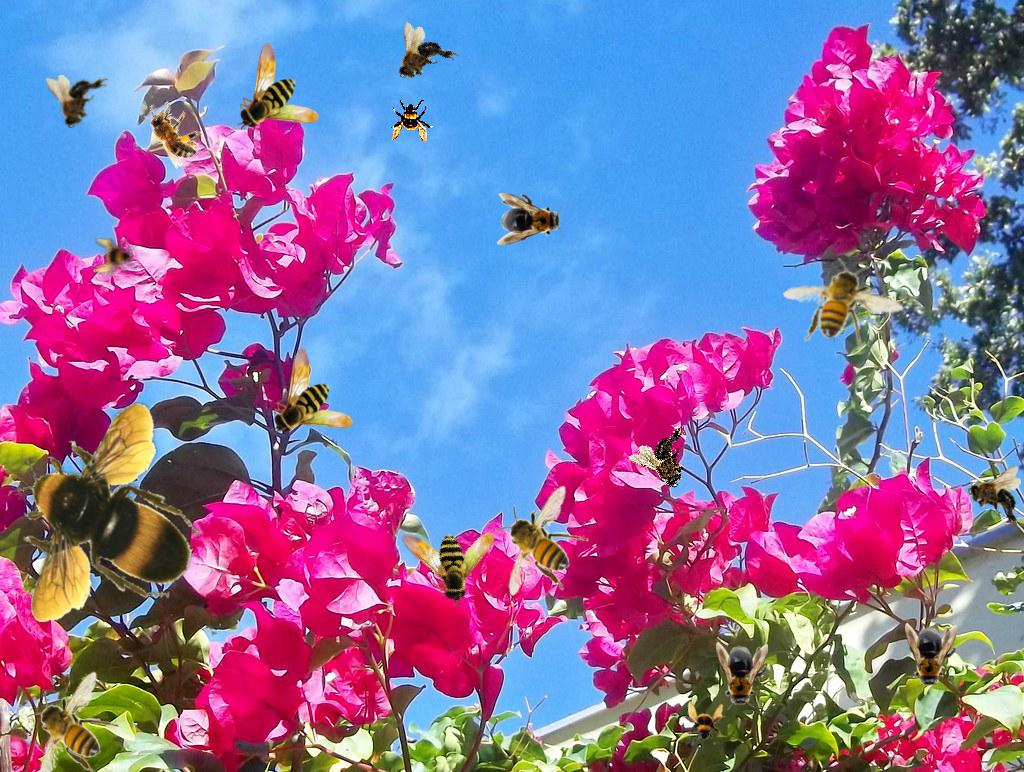Bee: (8, 402, 199, 622), (776, 242, 913, 368), (384, 492, 504, 610), (495, 485, 589, 596), (26, 671, 120, 772), (237, 42, 319, 130), (271, 347, 353, 435), (132, 92, 212, 171), (627, 422, 708, 500), (380, 19, 461, 97), (716, 642, 768, 710), (497, 193, 565, 245), (905, 623, 957, 691), (46, 75, 108, 128), (968, 466, 1021, 528), (93, 236, 137, 280), (390, 99, 434, 143), (681, 701, 725, 745)
